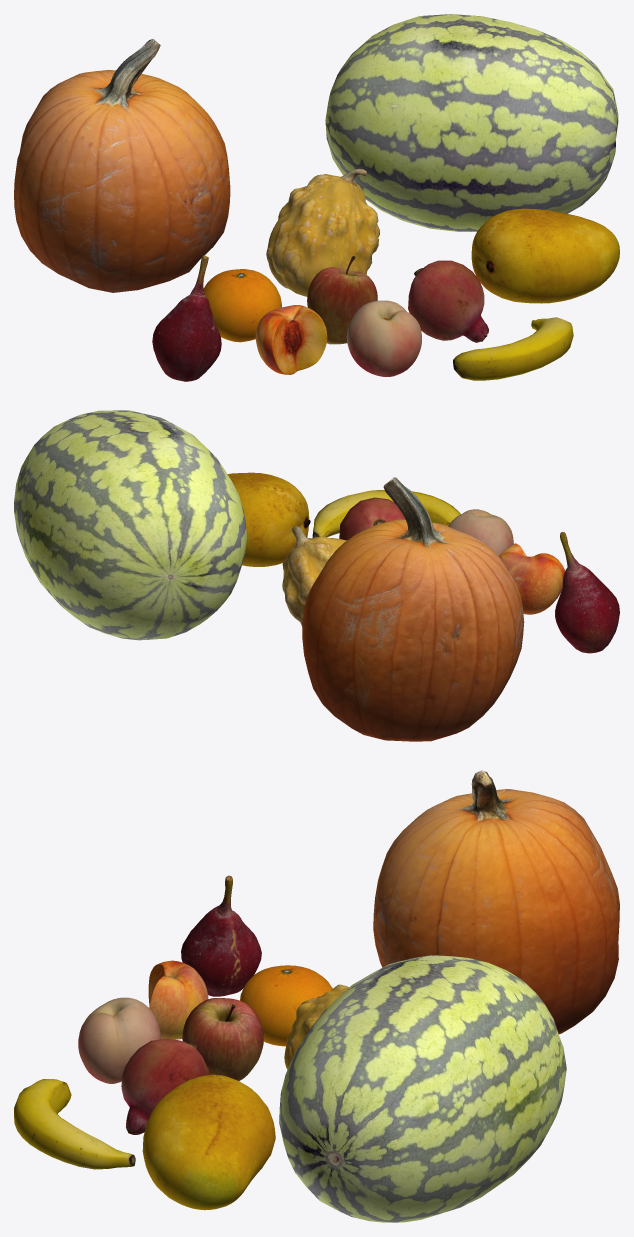
File: fig-0.glb
3 views of the same model, one above another, from view 1: azimuth 30°, elevation 25°; view 2: azimuth 150°, elevation 25°; view 3: azimuth 270°, elevation 25° (orthographic). The views are drawn at different scales.
Visible parts, largest first — view 1: Watermelon_Watermelon PBR_0, Pumpkin_Pumpkin PBR_0, Mango_Mango PBR_0, Decorative Gourd_Decorative Gourd PBR_0, Pomegranate_Pomegranate PBR_0, Red Pear_Red Pear PBR_0, Peach_Peach PBR_0, Banana_Banana PBR_0, Mandarin Orange_Mandarin Orange PBR_0, Cut Yellow Peach_Cut Yellow Peach PBR_0, Apple_Apple PBR_0; view 2: Watermelon_Watermelon PBR_0, Pumpkin_Pumpkin PBR_0, Mango_Mango PBR_0, Red Pear_Red Pear PBR_0, Cut Yellow Peach_Cut Yellow Peach PBR_0, Decorative Gourd_Decorative Gourd PBR_0, Banana_Banana PBR_0, Peach_Peach PBR_0, Pomegranate_Pomegranate PBR_0; view 3: Watermelon_Watermelon PBR_0, Pumpkin_Pumpkin PBR_0, Mango_Mango PBR_0, Banana_Banana PBR_0, Red Pear_Red Pear PBR_0, Apple_Apple PBR_0, Peach_Peach PBR_0, Pomegranate_Pomegranate PBR_0, Mandarin Orange_Mandarin Orange PBR_0, Cut Yellow Peach_Cut Yellow Peach PBR_0, Decorative Gourd_Decorative Gourd PBR_0.
Boxes of the visible parts, <box> form: Watermelon_Watermelon PBR_0: <box>325,14,618,231</box>; Pumpkin_Pumpkin PBR_0: <box>14,39,230,292</box>; Mango_Mango PBR_0: <box>471,208,619,303</box>; Decorative Gourd_Decorative Gourd PBR_0: <box>266,168,379,296</box>; Pomegranate_Pomegranate PBR_0: <box>408,260,488,342</box>; Red Pear_Red Pear PBR_0: <box>152,255,221,381</box>; Peach_Peach PBR_0: <box>346,300,421,376</box>; Banana_Banana PBR_0: <box>453,317,573,380</box>; Mandarin Orange_Mandarin Orange PBR_0: <box>203,269,281,342</box>; Cut Yellow Peach_Cut Yellow Peach PBR_0: <box>255,305,327,374</box>; Apple_Apple PBR_0: <box>307,256,377,344</box>; Watermelon_Watermelon PBR_0: <box>14,410,246,640</box>; Pumpkin_Pumpkin PBR_0: <box>302,477,524,741</box>; Mango_Mango PBR_0: <box>227,472,310,566</box>; Red Pear_Red Pear PBR_0: <box>555,532,619,653</box>; Cut Yellow Peach_Cut Yellow Peach PBR_0: <box>499,543,564,614</box>; Decorative Gourd_Decorative Gourd PBR_0: <box>282,526,346,626</box>; Banana_Banana PBR_0: <box>312,490,460,537</box>; Peach_Peach PBR_0: <box>448,509,513,555</box>; Pomegranate_Pomegranate PBR_0: <box>339,497,405,540</box>; Watermelon_Watermelon PBR_0: <box>279,955,566,1222</box>; Pumpkin_Pumpkin PBR_0: <box>373,770,619,1034</box>; Mango_Mango PBR_0: <box>142,1074,275,1210</box>; Banana_Banana PBR_0: <box>14,1079,135,1169</box>; Red Pear_Red Pear PBR_0: <box>181,875,261,996</box>; Apple_Apple PBR_0: <box>182,998,263,1080</box>; Peach_Peach PBR_0: <box>78,997,160,1083</box>; Pomegranate_Pomegranate PBR_0: <box>121,1038,209,1134</box>; Mandarin Orange_Mandarin Orange PBR_0: <box>240,965,332,1046</box>; Cut Yellow Peach_Cut Yellow Peach PBR_0: <box>148,960,208,1039</box>; Decorative Gourd_Decorative Gourd PBR_0: <box>284,984,348,1069</box>.
Size of the model in its own units: 0.5911 by 0.2494 by 0.511.
Materials: 11 (11 with a texture image).
